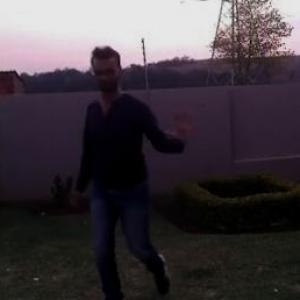follow_hand: (162, 106, 201, 143)
